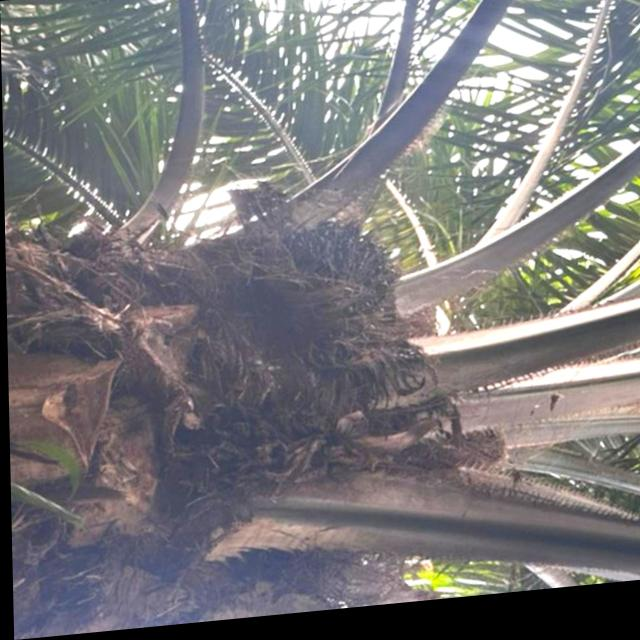unripe: (248, 202, 417, 375)
